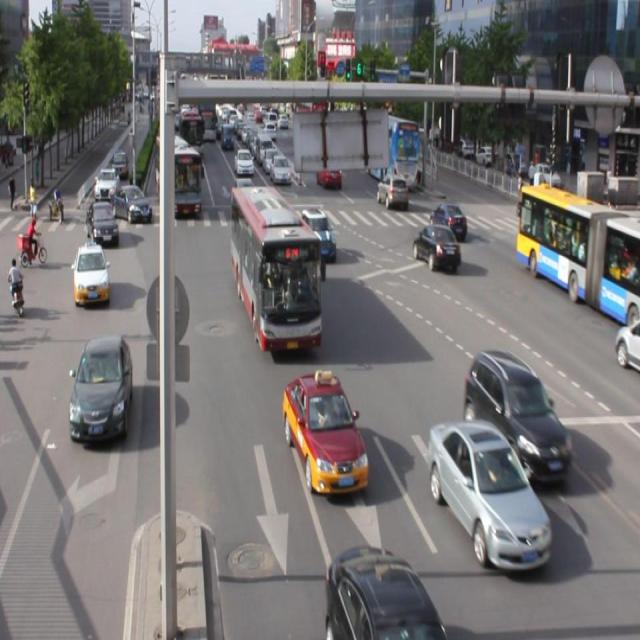car: (427, 417, 551, 567), (462, 347, 570, 483), (324, 541, 446, 640), (282, 372, 368, 494), (68, 332, 134, 440), (411, 222, 460, 268), (299, 206, 336, 260), (428, 202, 467, 238)
van: (516, 183, 640, 324), (230, 186, 320, 346)
